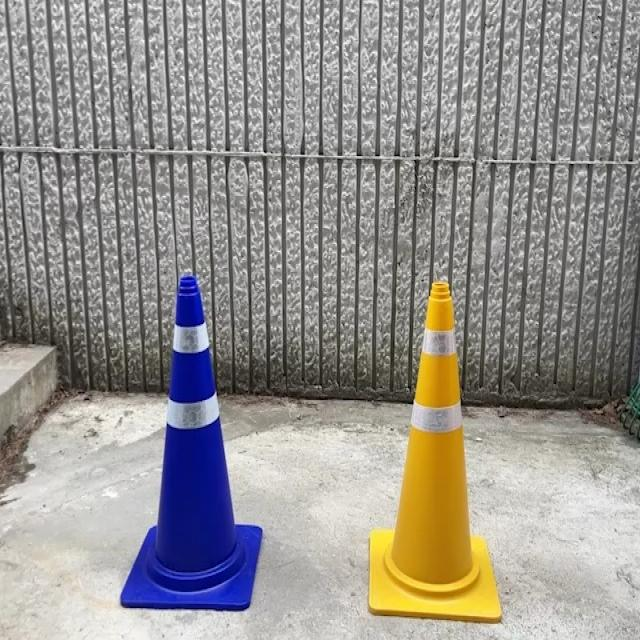b_rub: (121, 276, 262, 611)
y_rub: (369, 281, 503, 622)
